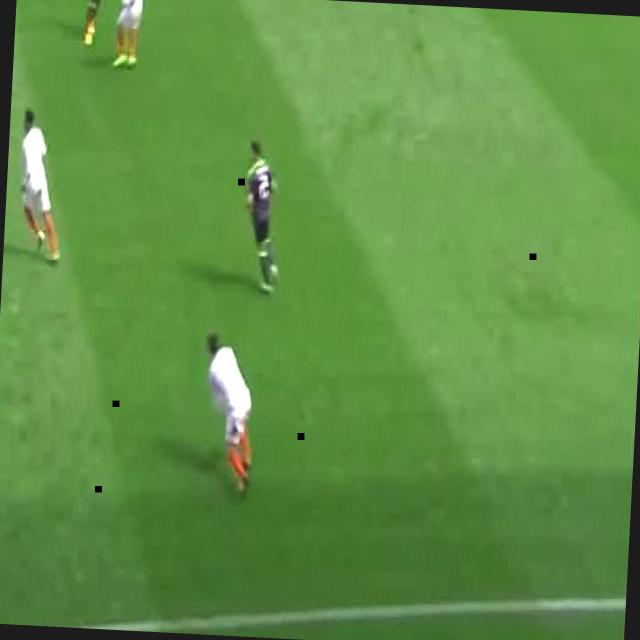player-white: (201, 331, 261, 494), (13, 105, 68, 266), (239, 138, 285, 292), (112, 0, 149, 70), (79, 0, 115, 49)
